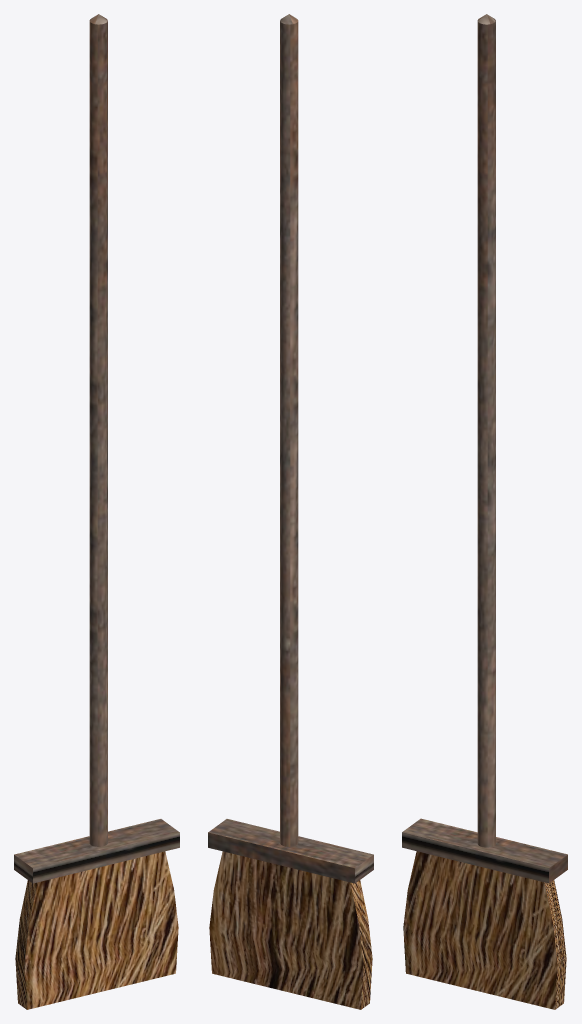
The model's file is Broom.obj.
3 views of the same model, side by side, from view 1: azimuth 30°, elevation 25°; view 2: azimuth 150°, elevation 25°; view 3: azimuth 330°, elevation 25° (orthographic).
Parts seen in each view (by area): view 1: Broom; view 2: Broom; view 3: Broom.
Boxes of the visible parts, x1=… form: Broom: x1=14, y1=14, x2=179, y2=1009; Broom: x1=208, y1=14, x2=373, y2=1009; Broom: x1=402, y1=14, x2=567, y2=1009.
Size of the model in its own units: 0.5264 by 3.18 by 0.1111.
Materials: 2 (2 with a texture image).
